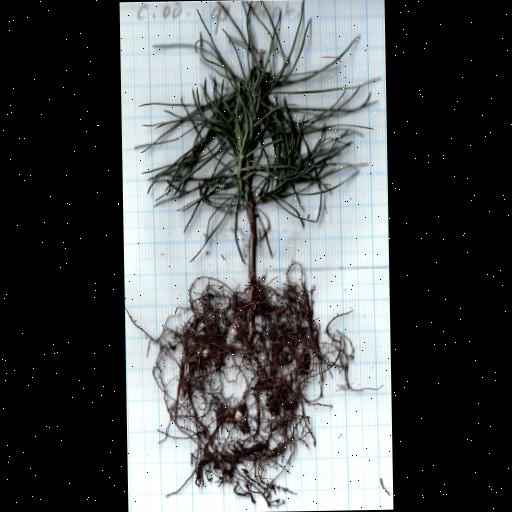flowerCedr: (137, 0, 369, 259)
rootCedr: (132, 266, 379, 508)
stemCedr: (247, 203, 257, 281)
